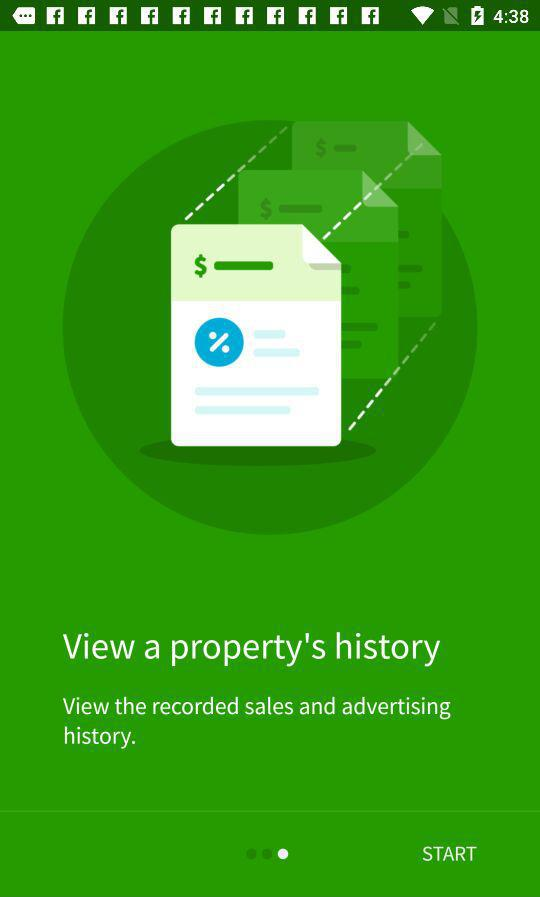Image: (61, 121, 477, 534)
PageIndicator: (246, 847, 290, 862)
Text: (63, 696, 452, 750), (63, 632, 441, 668), (421, 845, 479, 863)
UpperTaskBar: (1, 1, 540, 33)
